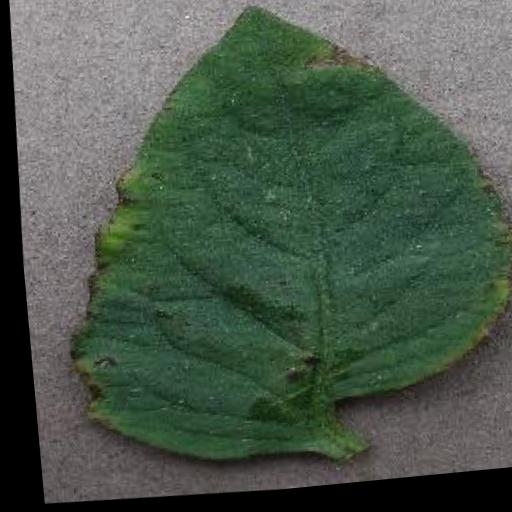Bacterial Spot: (31, 0, 512, 491)
